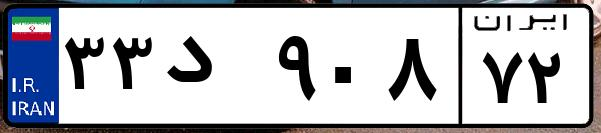0: (330, 28, 385, 110)
2: (525, 38, 570, 115)
3: (57, 26, 110, 100), (110, 28, 158, 98)
7: (475, 38, 525, 113)
8: (385, 28, 445, 110)
9: (270, 28, 330, 110)
د: (158, 20, 270, 120)
